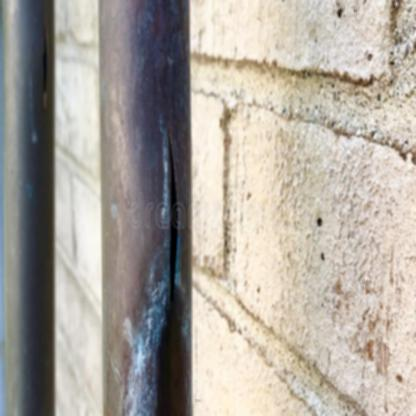burst: (132, 140, 196, 322)
